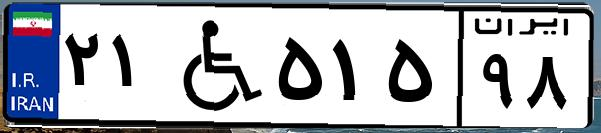1: (330, 28, 385, 110), (110, 28, 158, 98)
2: (57, 26, 110, 100)
5: (270, 28, 330, 110), (385, 28, 445, 110)
8: (525, 38, 570, 115)
9: (475, 38, 525, 113)
ژ (معلولین و جانبازان): (158, 12, 270, 120)
